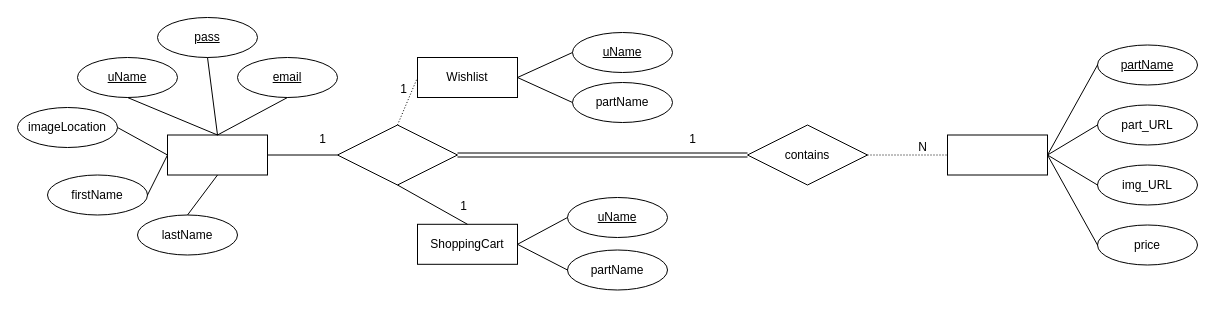
Some shapes in this 1215 by 316 pixel diagram are drawn without their labels. Each missing label, with the centre of its shape:
"Parts" goes at pixel 997 154.
"User" goes at pixel 217 154.
"userInfo" goes at pixel 397 154.
